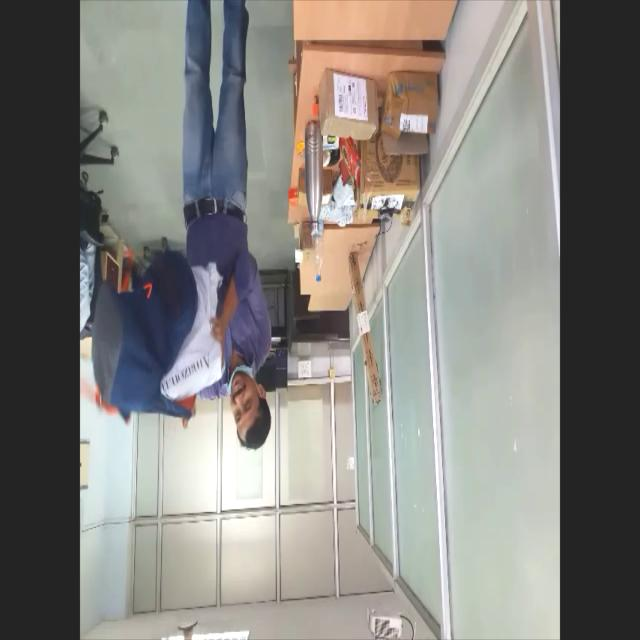shoplifting: (95, 0, 272, 455)
